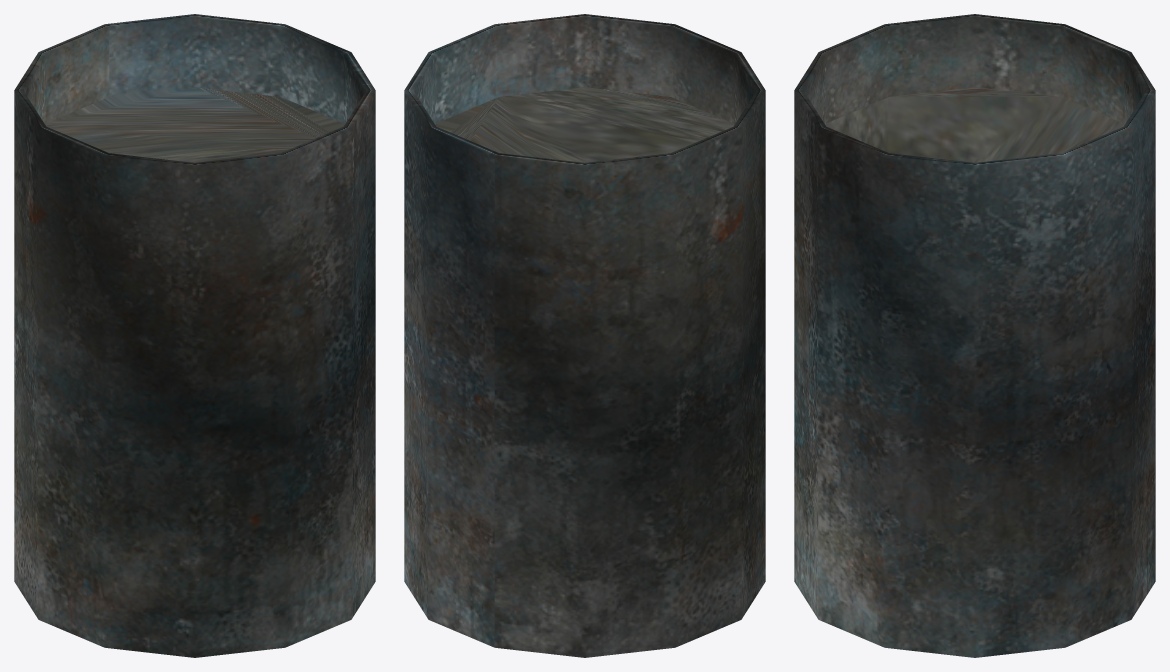
Rendered from Drum.fbx.
The picture shows the model from 3 angles, left to right: view 1: azimuth 30°, elevation 25°; view 2: azimuth 150°, elevation 25°; view 3: azimuth 270°, elevation 25°; orthographic projection.
Parts seen in each view (by area): view 1: pCylinder1; view 2: pCylinder1; view 3: pCylinder1.
Boxes of the visible parts, x1,y1,x2,y2 form: pCylinder1: (14,14,375,657); pCylinder1: (404,14,765,657); pCylinder1: (794,14,1155,657).
Bounding box in the file's own units: 2 × 3 × 2.
